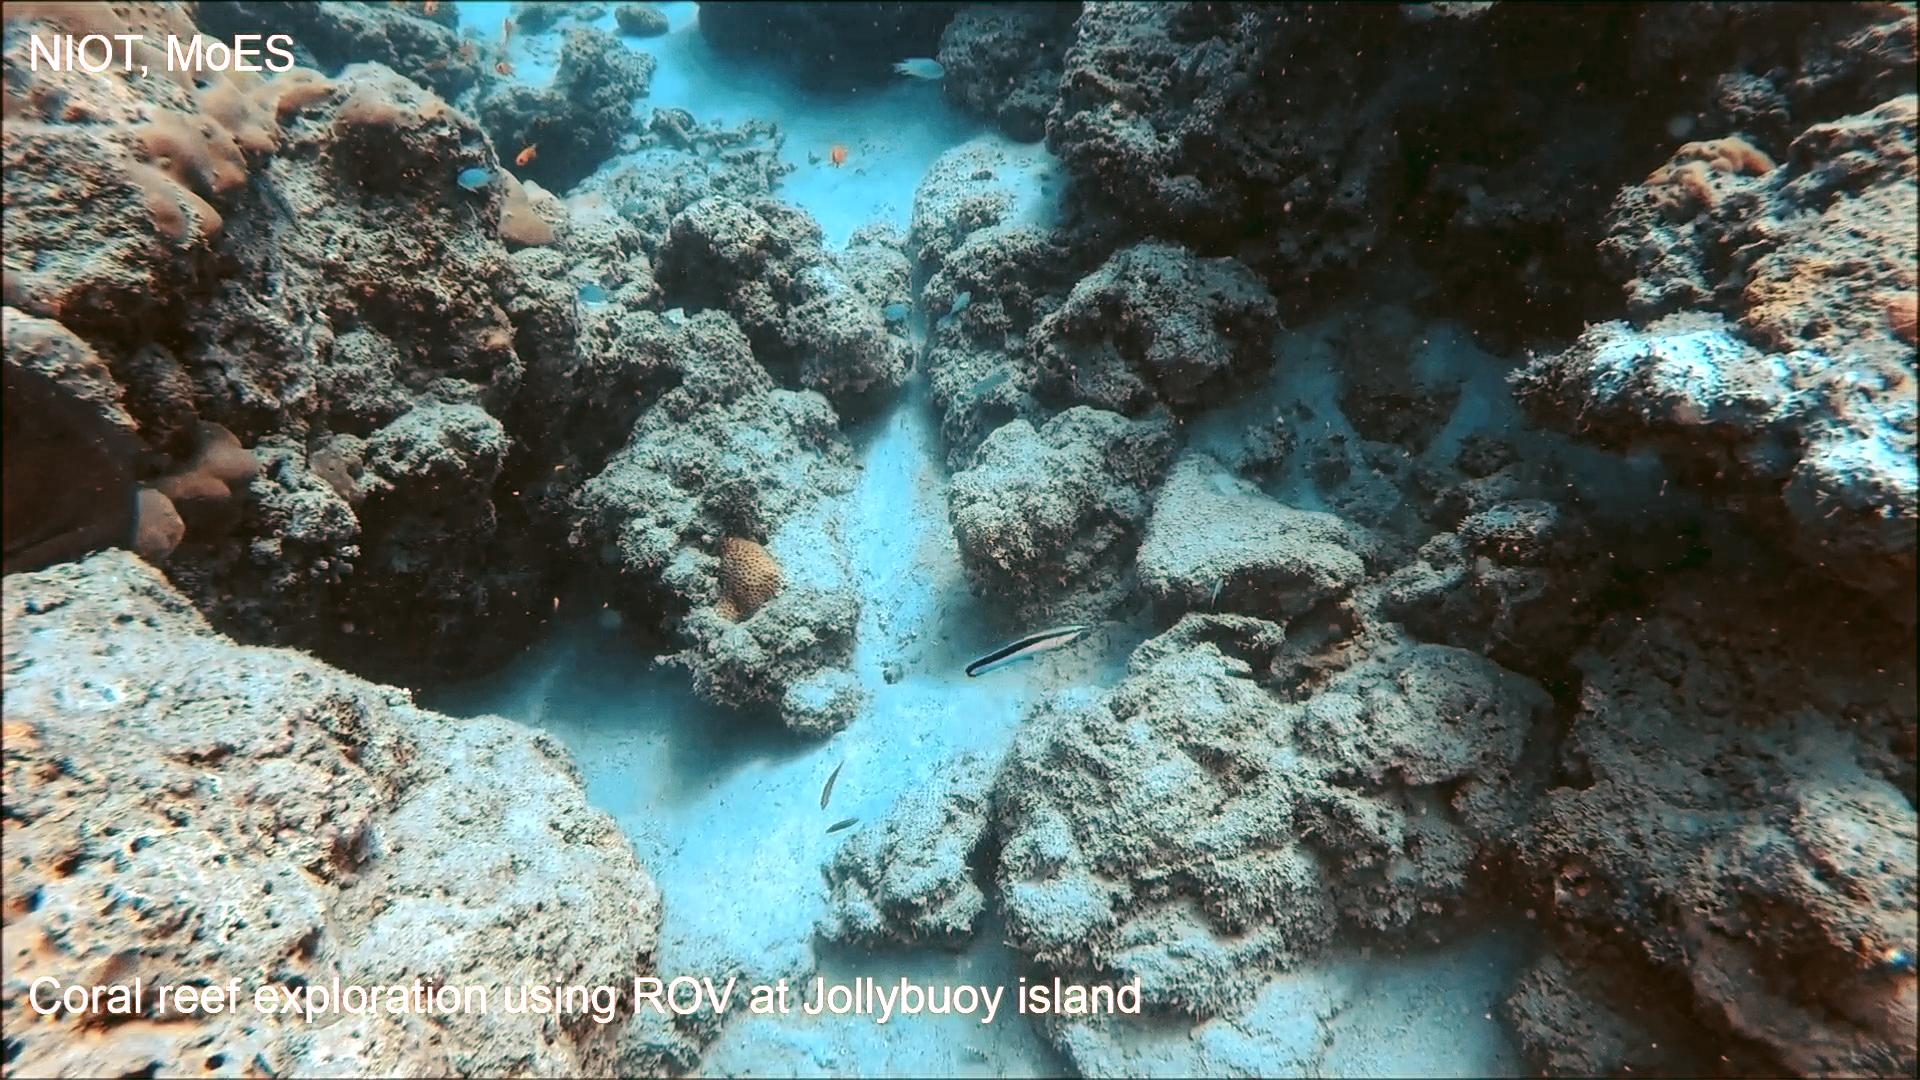Porites-Porites pukoensis: (4, 0, 349, 255)
